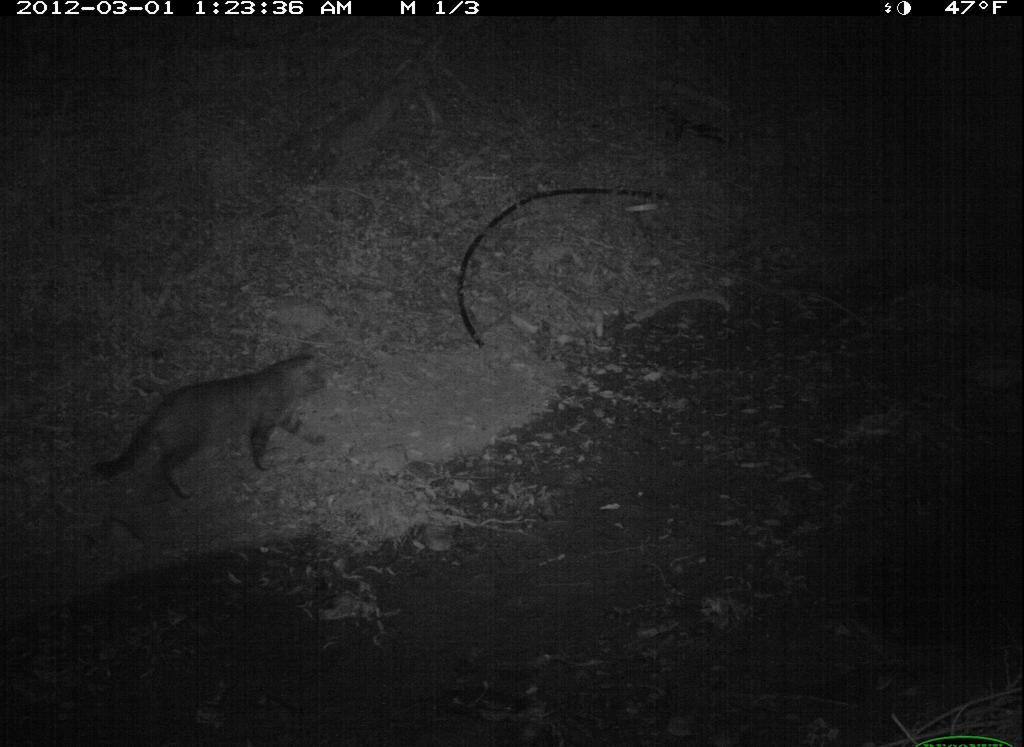cat: (72, 346, 356, 502)
